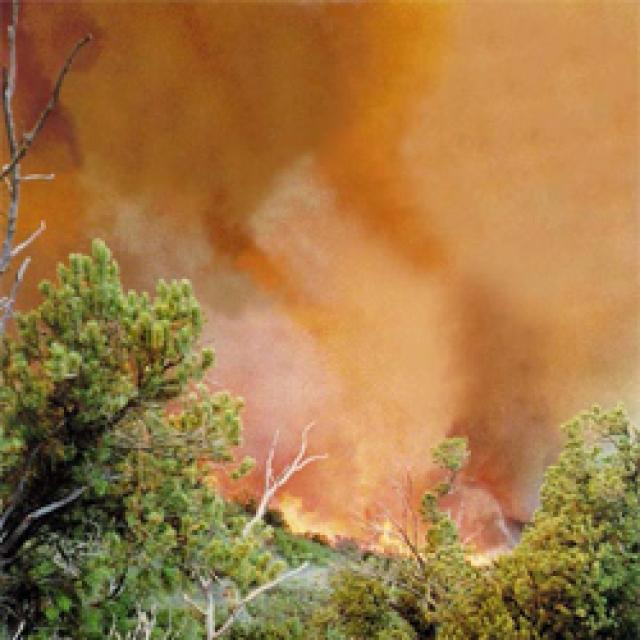Fire: (206, 413, 565, 600)
Smoke: (0, 0, 640, 401), (240, 138, 464, 511)
